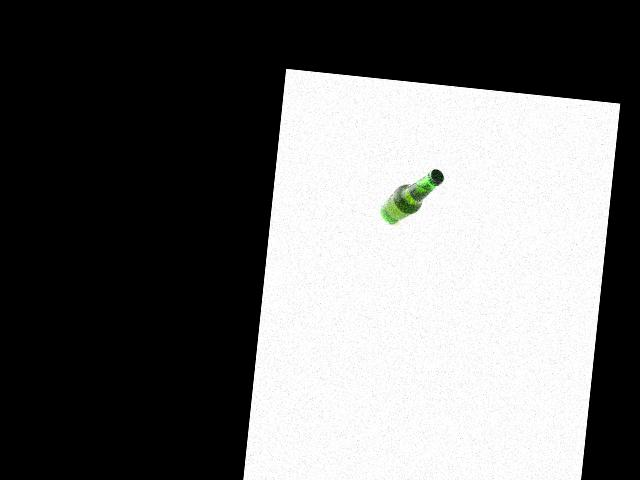beer: (379, 164, 445, 228)
